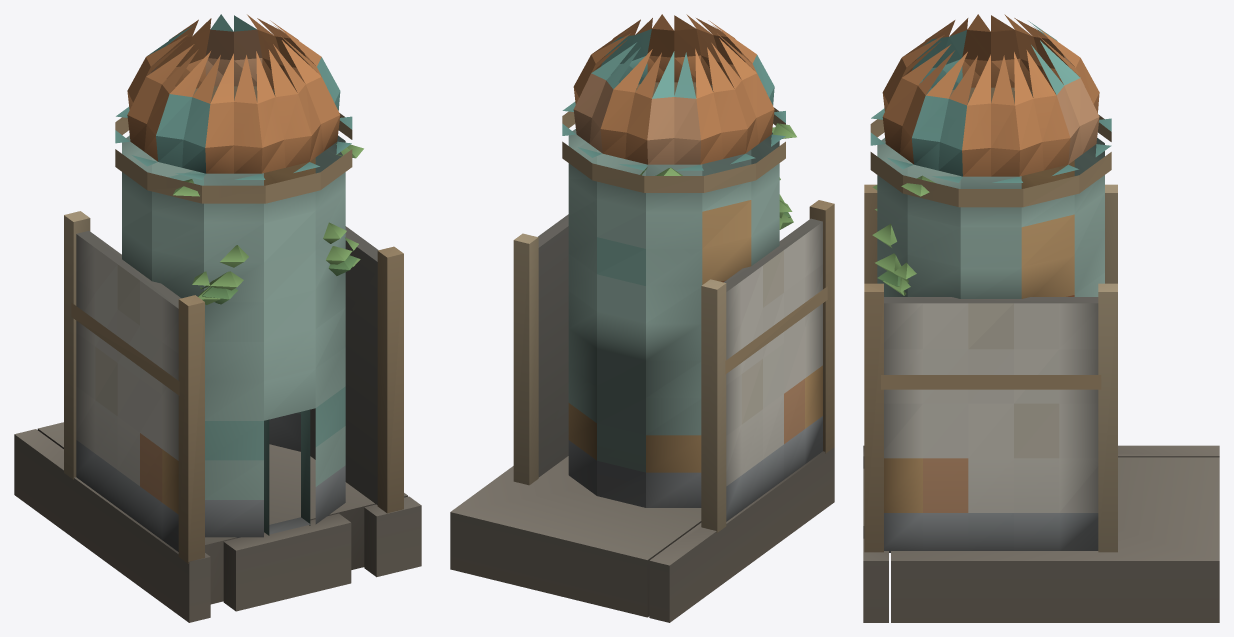
Rendered from dome.lod.glb.
The picture shows the model from 3 angles, left to right: view 1: azimuth 30°, elevation 25°; view 2: azimuth 150°, elevation 25°; view 3: azimuth 270°, elevation 25°; orthographic projection. The views are drawn at different scales.
Visible parts, largest first — view 1: dome; view 2: dome; view 3: dome.
Part boxes in pixels (x1,y1,x2,y2): dome: (14, 14, 421, 622); dome: (450, 14, 834, 622); dome: (863, 14, 1219, 622).
Bounding box in the file's own units: 4.98 × 10.54 × 6.46.
